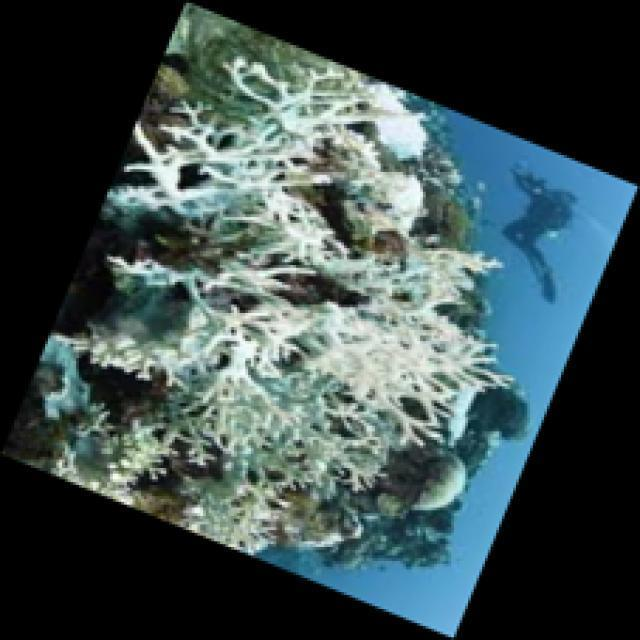Bleached: (107, 55, 503, 579), (316, 301, 512, 446), (365, 85, 435, 168)
